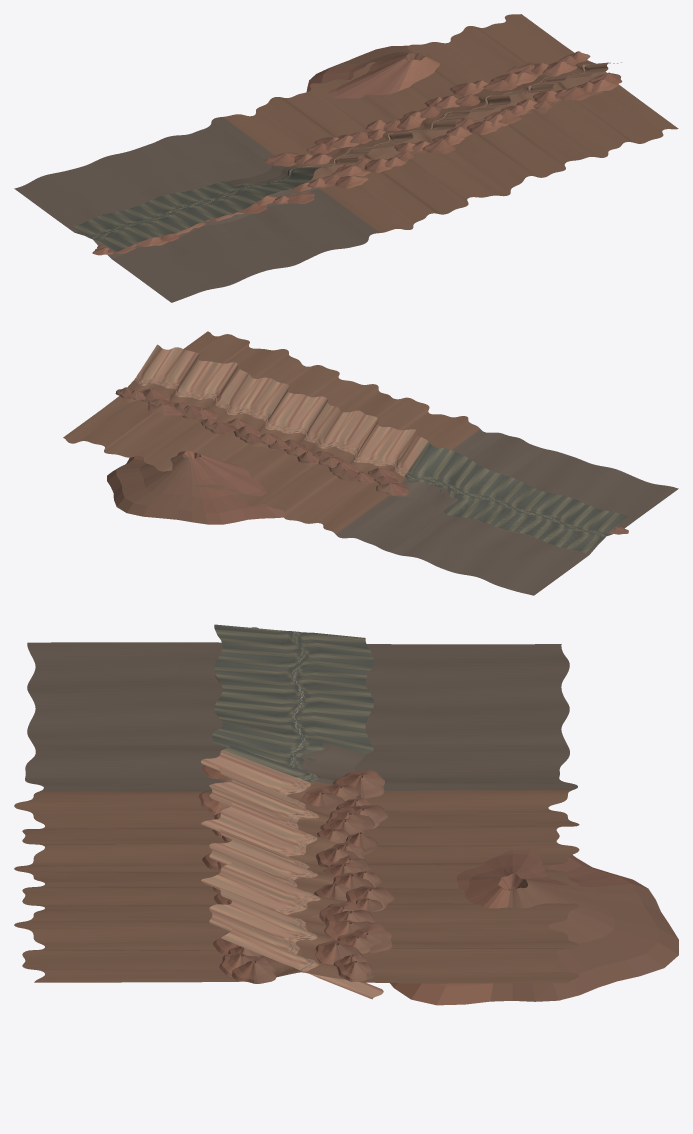
Rendered from maunakea.glb.
3 views of the same model, one above another, from view 1: azimuth 30°, elevation 25°; view 2: azimuth 150°, elevation 25°; view 3: azimuth 270°, elevation 25° (orthographic). The views are drawn at different scales.
Visible parts, largest first — view 1: Peaks; view 2: Peaks, CinderSlope_045, CinderSlope_090, CinderSlope_058, CinderSlope_103, CinderSlope_067, CinderSlope_068, CinderSlope_077, CinderSlope_080, CinderSlope_054, CinderSlope_035, CinderSlope_099 (+5 smaller); view 3: Peaks, CinderSlope_067, CinderSlope_090, CinderSlope_077, CinderSlope_045, CinderSlope_099, CinderSlope_054, CinderSlope_103, CinderSlope_058, CinderSlope_019, CinderSlope_089, CinderSlope_044 (+7 smaller).
Part boxes in pixels (x1,y1,x2,y2): Peaks: (14,14,678,302); Peaks: (63,331,678,595); CinderSlope_045: (377,428,418,465); CinderSlope_090: (198,362,240,398); CinderSlope_058: (322,409,363,447); CinderSlope_103: (143,346,184,384); CinderSlope_067: (302,396,338,434); CinderSlope_068: (282,394,320,433); CinderSlope_077: (261,382,289,419); CinderSlope_080: (244,377,276,414); CinderSlope_054: (352,418,387,454); CinderSlope_035: (427,448,456,484); CinderSlope_099: (173,353,208,389); Peaks: (14,627,678,1005); CinderSlope_067: (201,809,287,855); CinderSlope_090: (201,873,283,918); CinderSlope_077: (209,840,294,881); CinderSlope_045: (201,756,282,798); CinderSlope_099: (210,899,297,943); CinderSlope_054: (210,777,297,820); CinderSlope_103: (209,918,294,960); CinderSlope_058: (209,793,294,834); CinderSlope_019: (220,692,370,718); CinderSlope_089: (220,866,291,914); CinderSlope_044: (219,749,291,795).
Bounding box in the file's own units: 26806 × 3168 × 14936.
